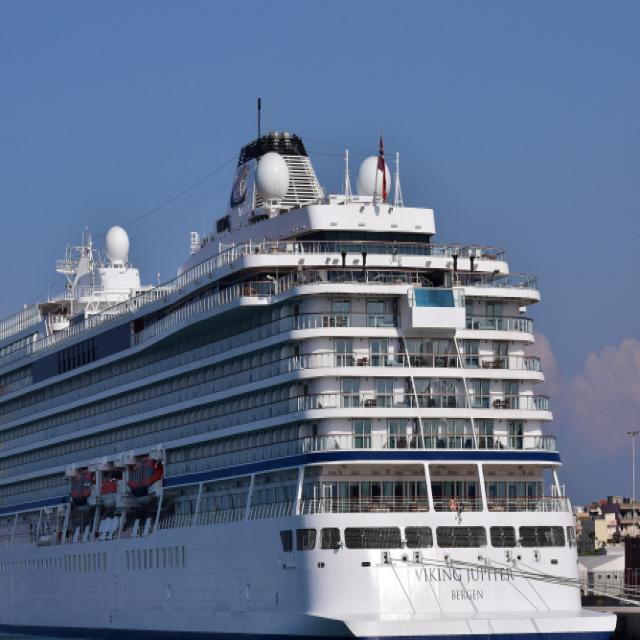cruises: (1, 119, 619, 640)
